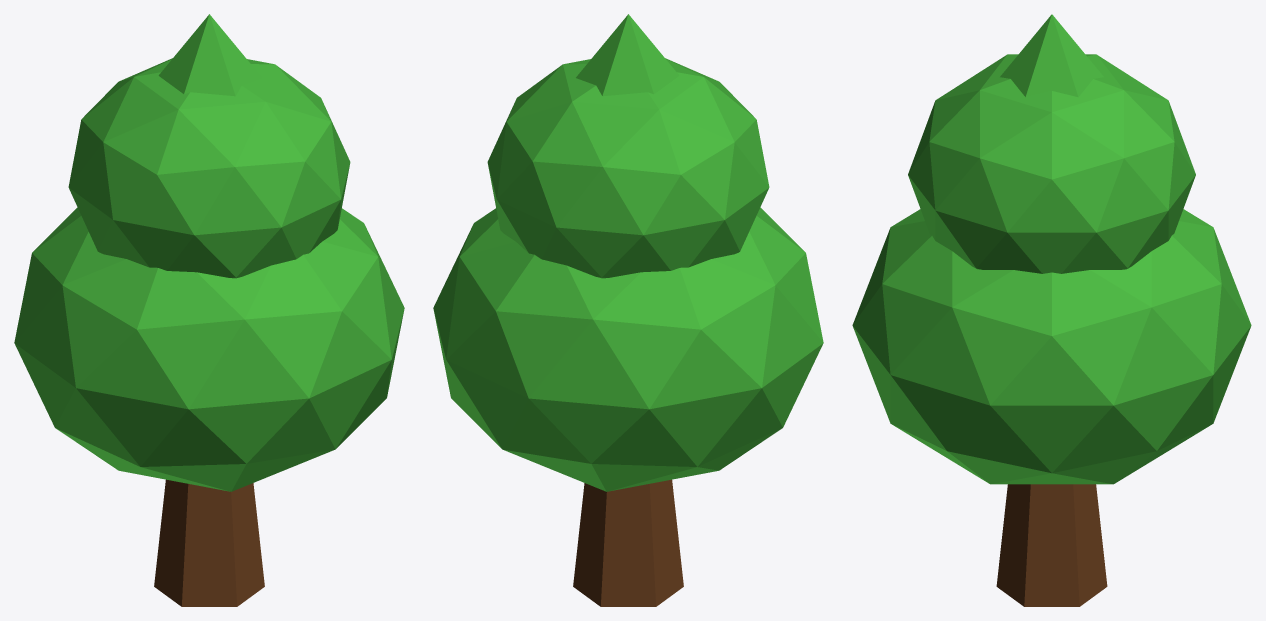
Rendered from tree.obj.
3 views of the same model, side by side, from view 1: azimuth 30°, elevation 25°; view 2: azimuth 150°, elevation 25°; view 3: azimuth 270°, elevation 25° (orthographic).
Parts seen in each view (by area): view 1: tree; view 2: tree; view 3: tree.
Boxes of the visible parts, left/top/right/bottom form: tree: left=14, top=14, right=404, bottom=606; tree: left=433, top=14, right=823, bottom=606; tree: left=852, top=14, right=1251, bottom=606.
Size of the model in its own units: 0.6848 by 1.14 by 0.72.
